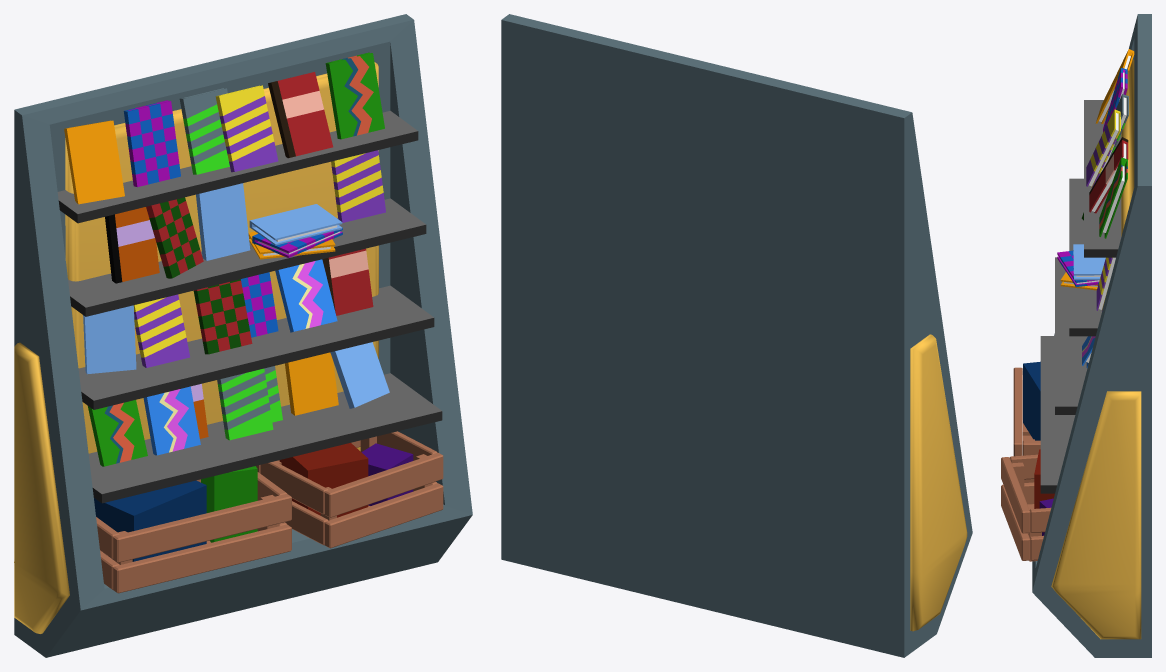
The model's file is l_text_bookshelf_1.glb.
3 views of the same model, side by side, from view 1: azimuth 30°, elevation 25°; view 2: azimuth 150°, elevation 25°; view 3: azimuth 270°, elevation 25° (orthographic). The views are drawn at different scales.
Visible parts, largest first — view 1: ComicShelf; view 2: ComicShelf; view 3: ComicShelf.
Boxes of the visible parts, x1,y1,x2,y2 form: ComicShelf: (14, 14, 472, 657); ComicShelf: (501, 14, 972, 657); ComicShelf: (1001, 14, 1151, 657).
Bounding box in the file's own units: 1.47 × 1.8 × 0.5216.
Materials: 1 (1 with a texture image).
